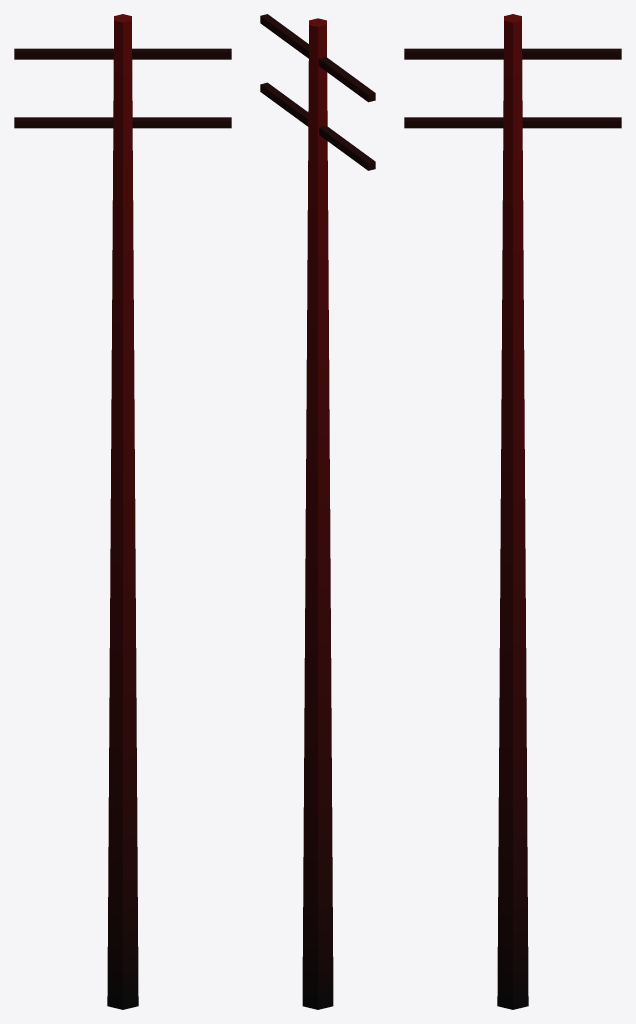
File: cot_dien_12m.far.glb
3 views of the same model, side by side, from view 1: azimuth 90°, elevation 25°; view 2: azimuth 210°, elevation 25°; view 3: azimuth 270°, elevation 25° (orthographic).
Visible parts, largest first — view 1: cot_dien_12m; view 2: cot_dien_12m; view 3: cot_dien_12m.
Boxes of the visible parts, x1=… form: cot_dien_12m: x1=14, y1=14, x2=231, y2=1009; cot_dien_12m: x1=260, y1=14, x2=375, y2=1009; cot_dien_12m: x1=404, y1=14, x2=621, y2=1009.
Size of the model in its own units: 0.33 by 10 by 2.
